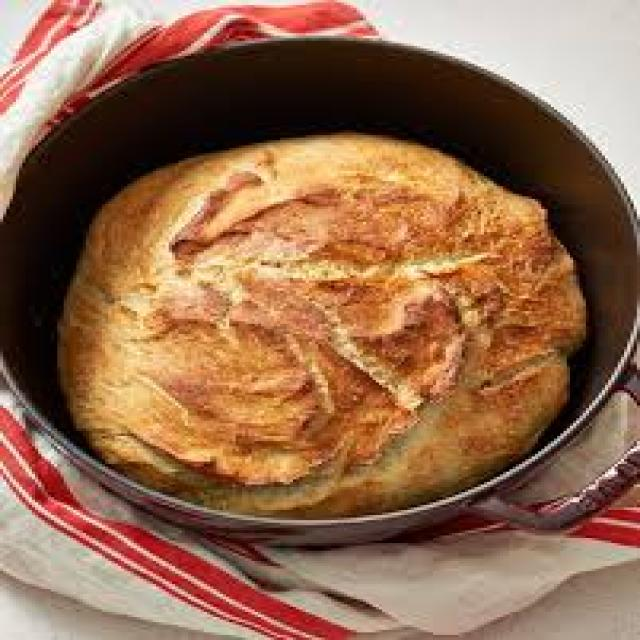organic: (108, 125, 488, 479)
